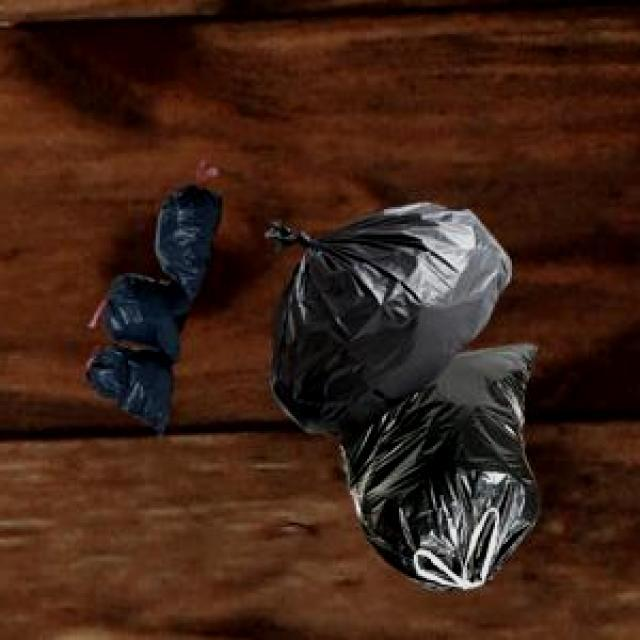Trashbag: (268, 204, 482, 415), (346, 389, 544, 588), (76, 343, 182, 430), (94, 272, 198, 350), (147, 186, 229, 277)
